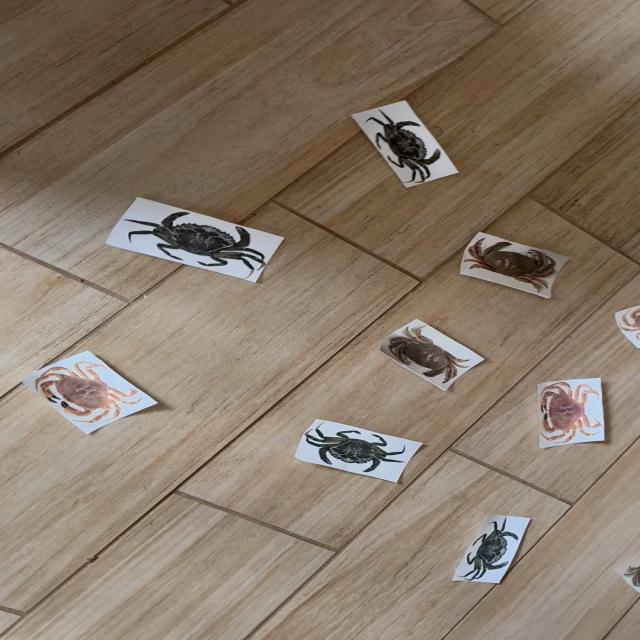egc: (106, 198, 283, 282), (295, 420, 421, 482), (370, 106, 449, 183), (454, 515, 529, 583)
